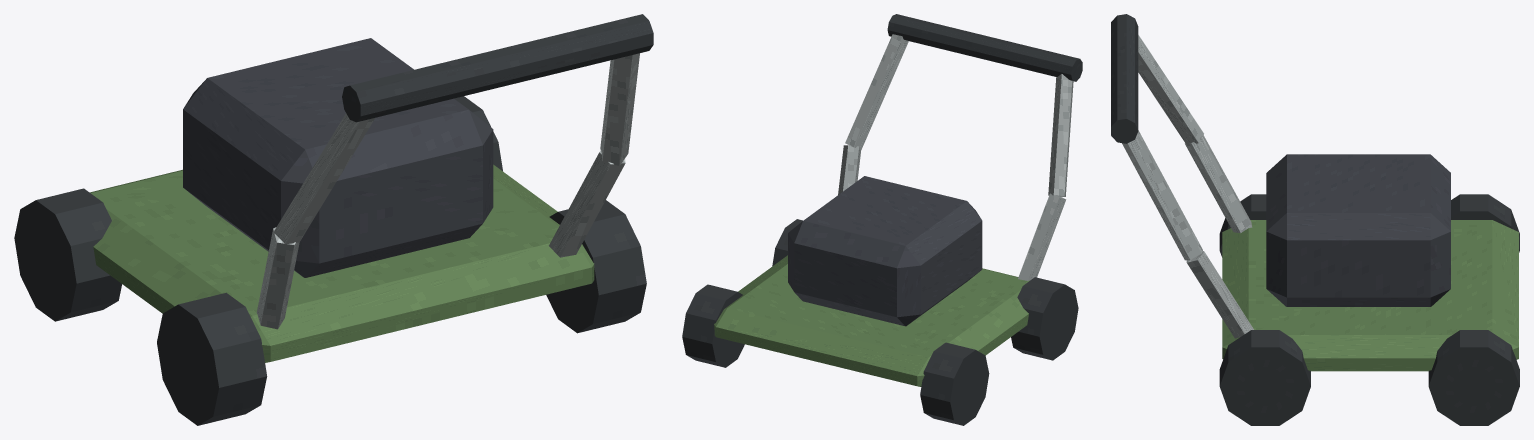
The model's file is lawnmower.glb.
3 renders of one model, left to right at view 1: azimuth 30°, elevation 25°; view 2: azimuth 150°, elevation 25°; view 3: azimuth 270°, elevation 25°, orthographic. The views are drawn at different scales.
Visible parts, largest first — view 1: block_motor cover, block_mower deck, block_wheel (×3), block_push handle, block_handle bar 1 (×2), block_handle bar 0 (×2); view 2: block_motor cover, block_mower deck, block_wheel (×4), block_push handle, block_handle bar 1 (×2), block_handle bar 0 (×2); view 3: block_motor cover, block_mower deck, block_wheel (×4), block_handle bar 1 (×2), block_handle bar 0 (×2), block_push handle.
Part boxes in pixels (left/top/right/bottom): block_motor cover: left=183, top=38, right=493, bottom=277; block_mower deck: left=90, top=164, right=594, bottom=362; block_wheel (×3): left=14, top=188, right=646, bottom=425; block_push handle: left=342, top=14, right=653, bottom=122; block_handle bar 1 (×2): left=273, top=53, right=639, bottom=244; block_handle bar 0 (×2): left=256, top=150, right=625, bottom=329; block_motor cover: left=788, top=176, right=982, bottom=326; block_mower deck: left=714, top=255, right=1029, bottom=386; block_wheel (×4): left=682, top=219, right=1078, bottom=425; block_push handle: left=887, top=14, right=1082, bottom=81; block_handle bar 1 (×2): left=845, top=34, right=1073, bottom=196; block_handle bar 0 (×2): left=838, top=145, right=1066, bottom=280; block_motor cover: left=1266, top=154, right=1450, bottom=306; block_mower deck: left=1222, top=220, right=1518, bottom=371; block_wheel (×4): left=1219, top=194, right=1519, bottom=425; block_handle bar 1 (×2): left=1122, top=35, right=1203, bottom=260; block_handle bar 0 (×2): left=1185, top=135, right=1253, bottom=338; block_push handle: left=1111, top=14, right=1138, bottom=143.
Size of the model in its own units: 0.3066 by 0.2646 by 0.3463.
Materials: 1 (1 with a texture image).
